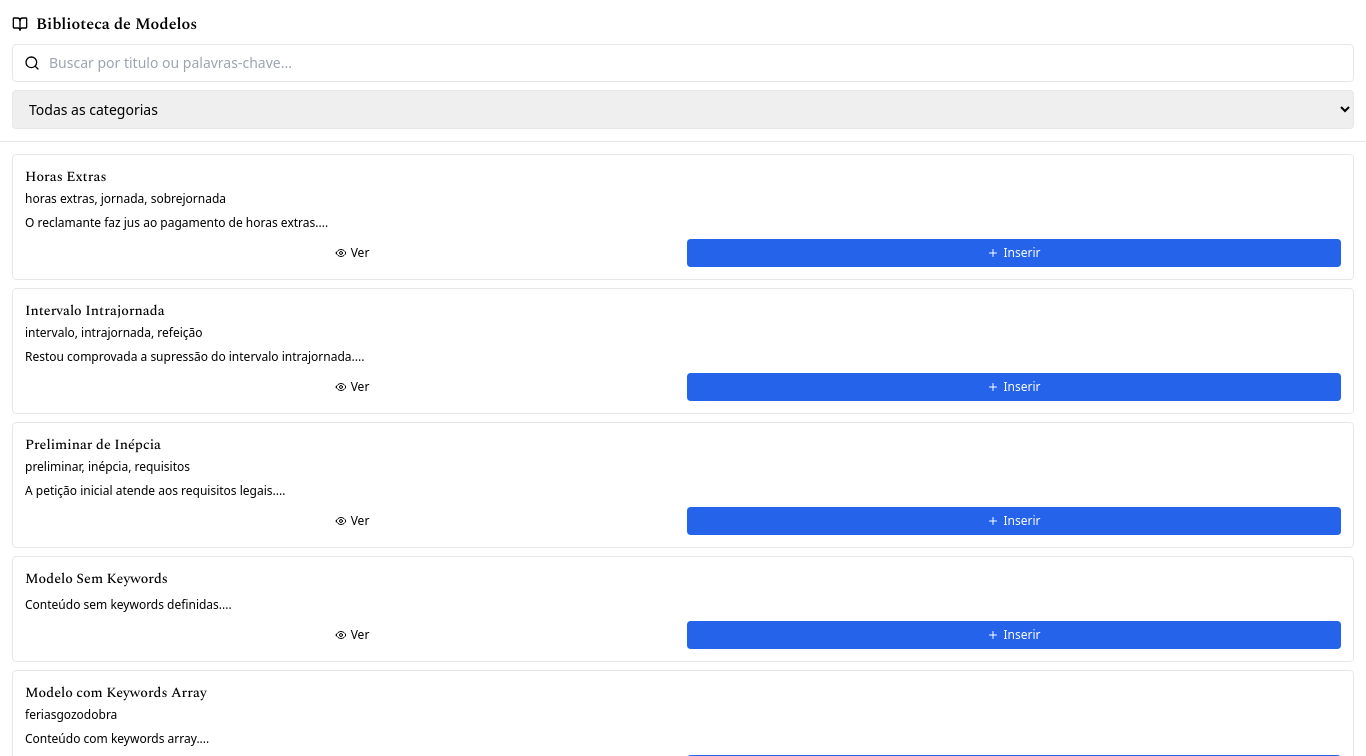
Test: ModelSearchPanel › Search › should filter models by keywords (string)
The width and height of the screenshot is (1366, 756).
Type "sobrejornada" into the field with placeholder "Buscar por titulo ou palavras-chave..." at (683, 63), box x1=12 y1=44 x2=1354 y2=82
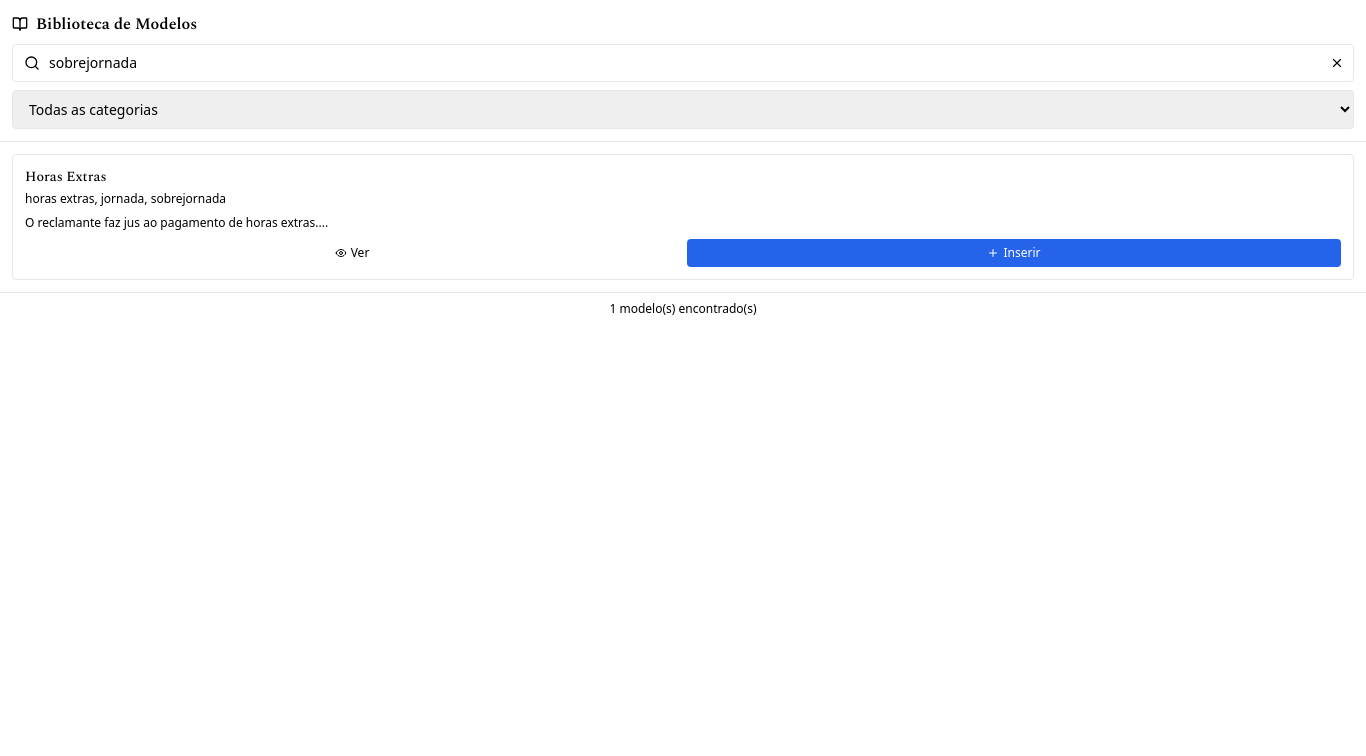
Expected: the heading "Horas Extras" is shown, x1=25 y1=166 x2=107 y2=187
Expected: the heading "Intervalo Intrajornada" is gone
